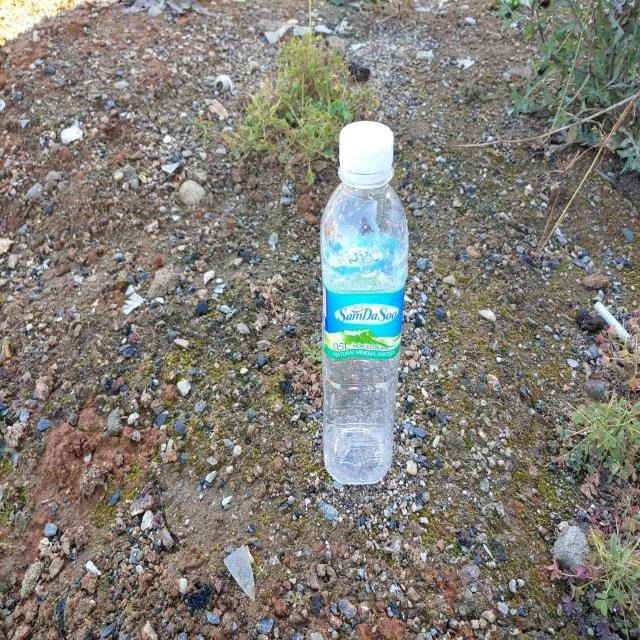plastic: (321, 120, 409, 485)
